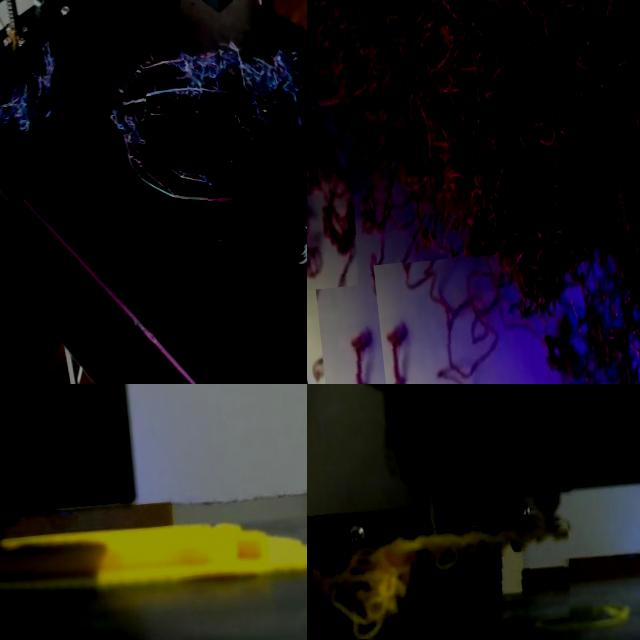spaghetti: (373, 232, 640, 384), (312, 520, 568, 639), (171, 25, 307, 157), (0, 17, 86, 203), (307, 101, 367, 290), (99, 80, 154, 175), (170, 146, 220, 204)
